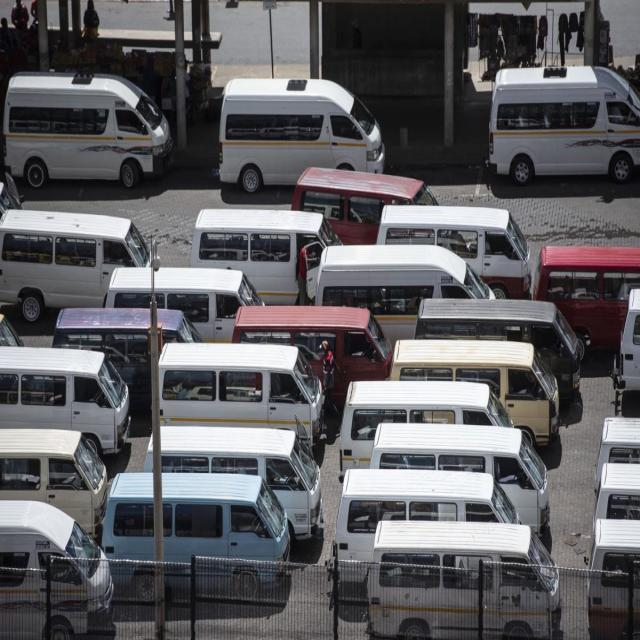MiniBus taxi: (3, 70, 173, 192), (216, 77, 389, 193), (485, 62, 640, 190)
